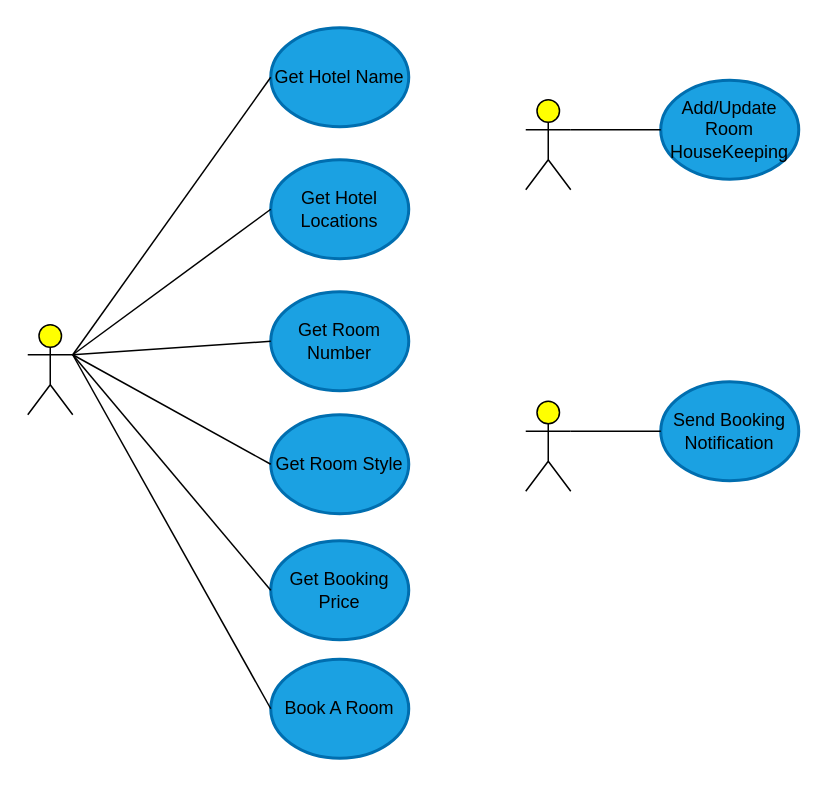
The diagram is 827 pixels wide and 785 high, and some of its shapes have lost their labels. The box of each missing label's shape, as (x1, y1, x2, y2) in pixels:
Guest: (26, 323, 73, 415)
HouseKeeper: (524, 98, 571, 190)
System: (524, 400, 571, 491)
